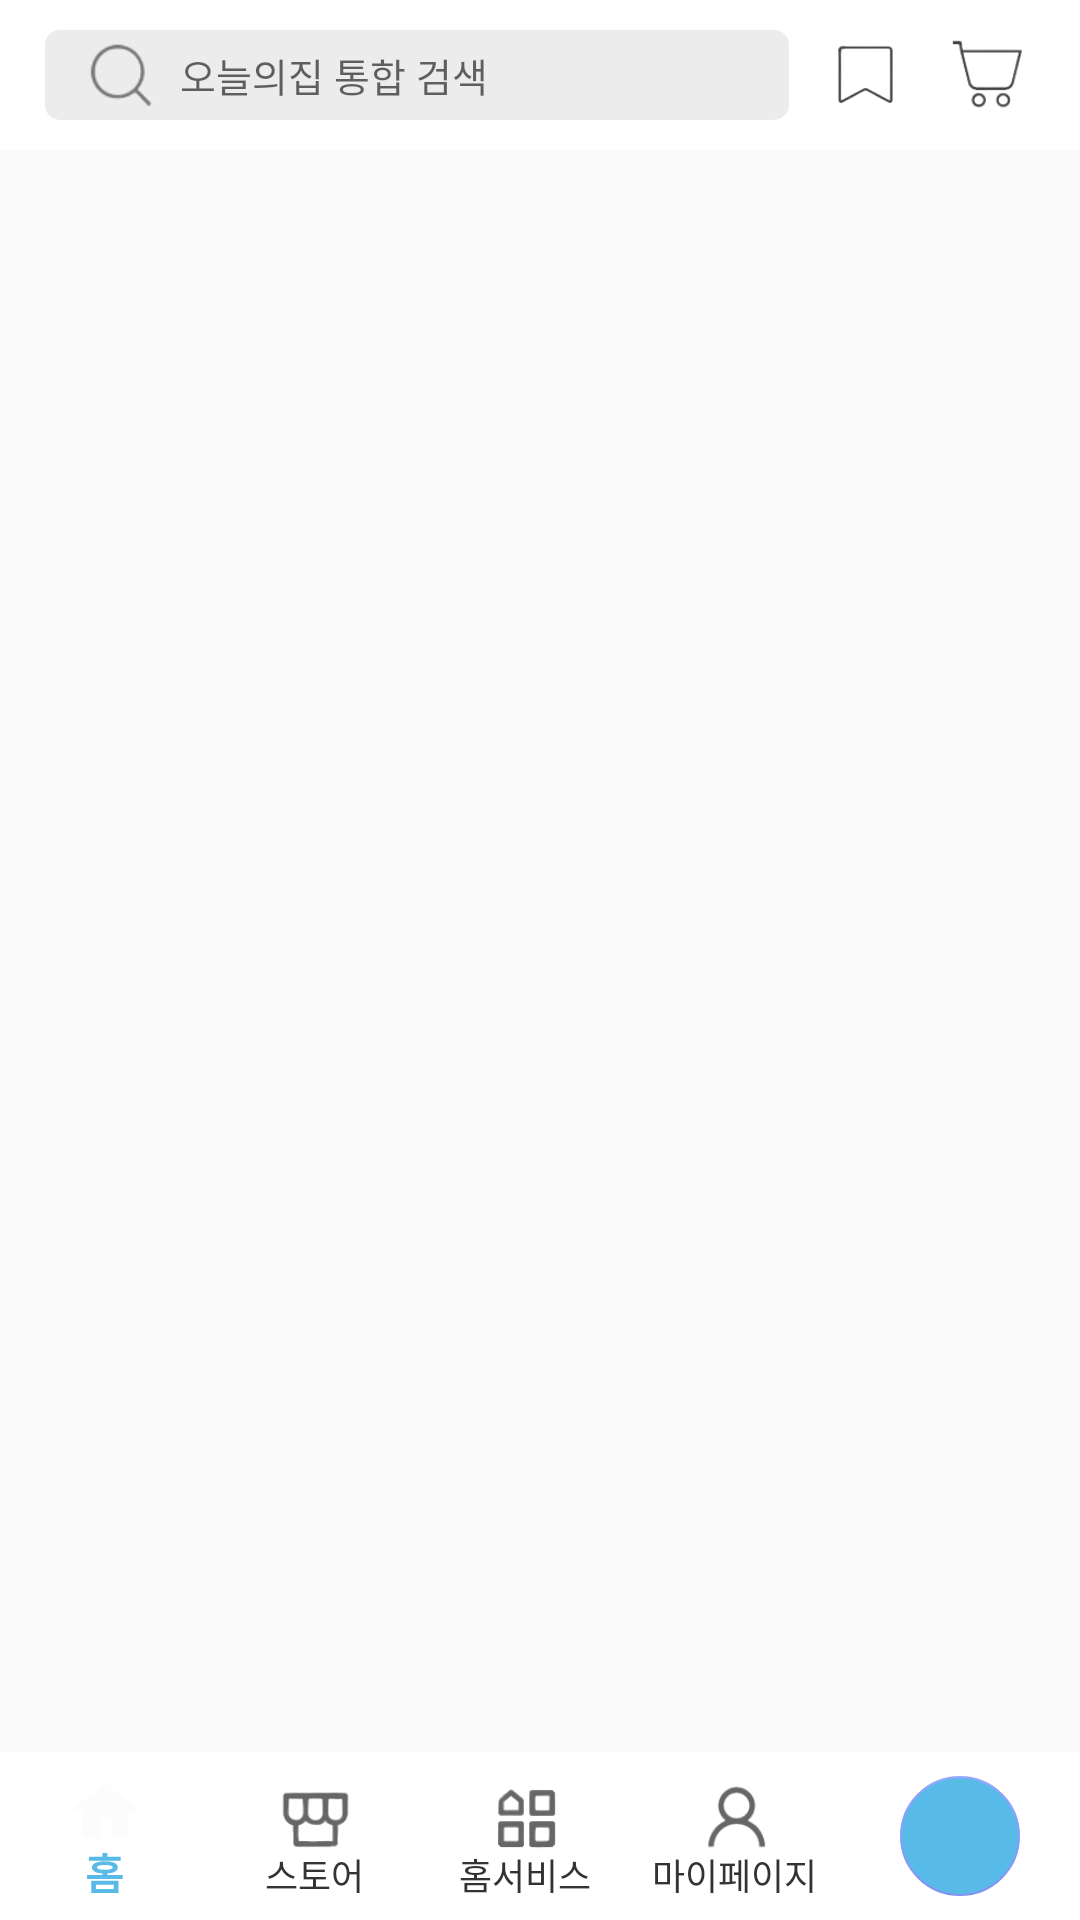

Point at icon controls on the screen. Image size 1080*1920, points as (x=x, y=y).
basket: (x=987, y=74)
